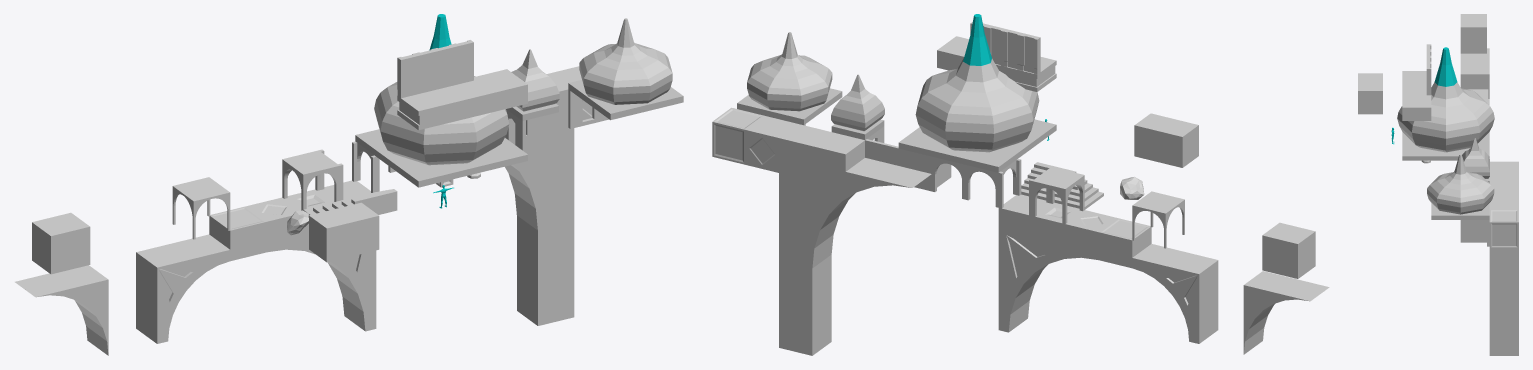
File: Temple Ruins.fbx
3 renders of one model, left to right at view 1: azimuth 30°, elevation 25°; view 2: azimuth 150°, elevation 25°; view 3: azimuth 270°, elevation 25°, orthographic. The views are drawn at different scales.
Parts seen in each view (by area): view 1: Tower Extension 2, Roof 3x3, Roof 2x2, Arch 4, Arch 3, Arch 2, Cube, Cube.002, Roof 1, Half Cube 4, Arch 1, Arches Small (+12 smaller); view 2: Roof 3x3, Tower Extension 2, Roof 2x2, Arch 2, Arch 4, Arch 1, Arch 3, Cube, Cube.002, Roof 1, Tower Extension Decor 2, Tower Extension Decor (+19 smaller); view 3: Roof 3x3, Tower Extension 2, Roof 2x2, Tower Extension Decor 2, Cube.002, Cube, Edging Corner 2, Roof 1, Arch 2, Arch 3, Arch Small, Tower Extension (+5 smaller).
Boxes of the visible parts, x1,y1,x2,y2 form: Tower Extension 2: (517, 72, 574, 325); Roof 3x3: (355, 14, 527, 187); Roof 2x2: (568, 18, 683, 120); Arch 4: (136, 234, 230, 343); Arch 3: (15, 265, 108, 355); Arch 2: (266, 230, 376, 331); Cube: (309, 202, 379, 262); Cube.002: (32, 212, 90, 274); Roof 1: (506, 49, 559, 120); Half Cube 4: (209, 206, 266, 249); Arch 1: (505, 137, 537, 230); Arches Small: (282, 150, 339, 210); Roof 3x3: (898, 14, 1056, 172); Tower Extension 2: (779, 124, 831, 355); Roof 2x2: (737, 32, 842, 125); Arch 2: (998, 225, 1098, 332); Arch 4: (1132, 244, 1218, 343); Arch 1: (812, 158, 931, 268); Arch 3: (1243, 271, 1329, 354); Cube: (1134, 113, 1198, 167); Cube.002: (1262, 222, 1315, 278); Roof 1: (831, 74, 884, 139); Tower Extension Decor 2: (712, 107, 764, 164); Tower Extension Decor: (745, 116, 797, 172); Roof 3x3: (1397, 47, 1494, 160); Tower Extension 2: (1489, 185, 1518, 355); Roof 2x2: (1427, 154, 1494, 219); Tower Extension Decor 2: (1489, 210, 1518, 248); Cube.002: (1460, 14, 1486, 53); Cube: (1358, 73, 1382, 114); Edging Corner 2: (1402, 95, 1431, 120); Roof 1: (1462, 138, 1489, 182); Arch 2: (1460, 220, 1486, 242); Arch 3: (1460, 48, 1489, 89); Arch Small: (1460, 62, 1489, 98); Tower Extension: (1489, 173, 1518, 185).
Bounding box in the file's own units: 10400 × 5727 × 3309.
